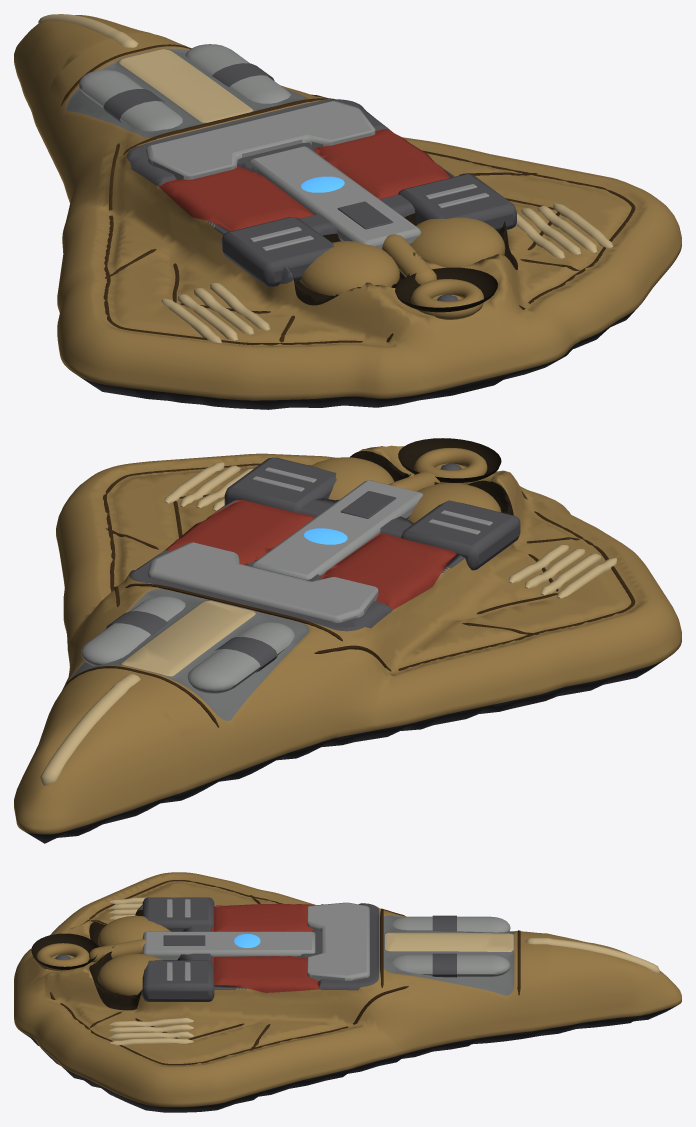
Rendered from store_ship_31.glb.
3 views of the same model, one above another, from view 1: azimuth 30°, elevation 25°; view 2: azimuth 150°, elevation 25°; view 3: azimuth 270°, elevation 25° (orthographic). The views are drawn at different scales.
Visible parts, largest first — view 1: hull, bay_frame, bay_column, housing, lobe, housing.001, lobe.001, rail, rail.001, tail_ring, tail_dish, seam_rim.001 (+14 smaller); view 2: hull, bay_frame, bay_column, housing, housing.001, rail, rail.001, spine, tail_dish, lobe.001, lobe, tail_ring (+12 smaller); view 3: hull, bay_frame, bay_column, housing.001, housing, rail.001, lobe.001, rail, lobe, tail_ring, spine, tail_dish (+10 smaller).
Part boxes in pixels (x1=…): hull: x1=14, y1=15, x2=681, y2=409; bay_frame: x1=145, y1=101, x2=375, y2=179; bay_column: x1=249, y1=146, x2=421, y2=249; housing: x1=222, y1=217, x2=334, y2=286; lobe: x1=299, y1=241, x2=399, y2=295; housing.001: x1=398, y1=174, x2=516, y2=231; lobe.001: x1=410, y1=217, x2=505, y2=267; rail: x1=78, y1=69, x2=182, y2=131; rail.001: x1=185, y1=44, x2=291, y2=103; tail_ring: x1=411, y1=279, x2=483, y2=319; tail_dish: x1=395, y1=267, x2=497, y2=312; seam_rim.001: x1=103, y1=143, x2=393, y2=345; hull: x1=14, y1=445, x2=681, y2=843; bay_frame: x1=148, y1=542, x2=378, y2=622; bay_column: x1=252, y1=480, x2=422, y2=579; housing: x1=401, y1=500, x2=520, y2=570; housing.001: x1=224, y1=457, x2=336, y2=512; rail: x1=187, y1=622, x2=294, y2=693; rail.001: x1=81, y1=596, x2=185, y2=665; spine: x1=40, y1=674, x2=140, y2=785; tail_dish: x1=398, y1=438, x2=501, y2=482; lobe.001: x1=311, y1=457, x2=394, y2=500; lobe: x1=408, y1=483, x2=501, y2=523; tail_ring: x1=414, y1=448, x2=487, y2=484; hull: x1=14, y1=872, x2=681, y2=1112; bay_frame: x1=307, y1=902, x2=369, y2=980; bay_column: x1=142, y1=931, x2=315, y2=960; housing.001: x1=142, y1=960, x2=214, y2=1001; housing: x1=142, y1=897, x2=214, y2=931; rail.001: x1=391, y1=954, x2=510, y2=976; lobe.001: x1=98, y1=953, x2=162, y2=995; rail: x1=391, y1=916, x2=510, y2=932; lobe: x1=98, y1=915, x2=170, y2=946; tail_ring: x1=36, y1=943, x2=89, y2=970; spine: x1=525, y1=938, x2=660, y2=973; tail_dish: x1=31, y1=933, x2=97, y2=969.
Size of the model in its own units: 84.89 by 14.34 by 112.
